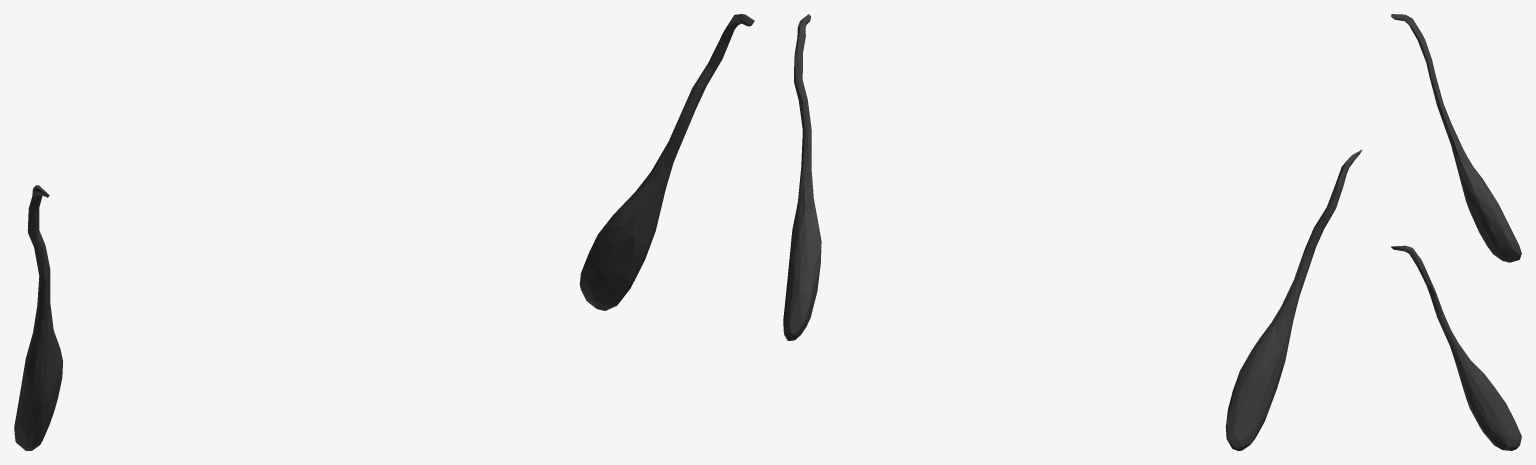
File: m_abductor_digiti_V.glb
3 views of the same model, side by side, from view 1: azimuth 30°, elevation 25°; view 2: azimuth 150°, elevation 25°; view 3: azimuth 270°, elevation 25° (orthographic). The views are drawn at different scales.
Parts seen in each view (by area): view 1: m_abductor_digiti_V; view 2: m_abductor_digiti_V; view 3: m_abductor_digiti_V.
Boxes of the visible parts, left/top/right/bottom form: m_abductor_digiti_V: left=14, top=14, right=754, bottom=450; m_abductor_digiti_V: left=783, top=14, right=1362, bottom=450; m_abductor_digiti_V: left=1391, top=14, right=1521, bottom=450.
Bounding box in the file's own units: 0.00443 × 0.002 × 0.00105.
1 material, 1 textured.
